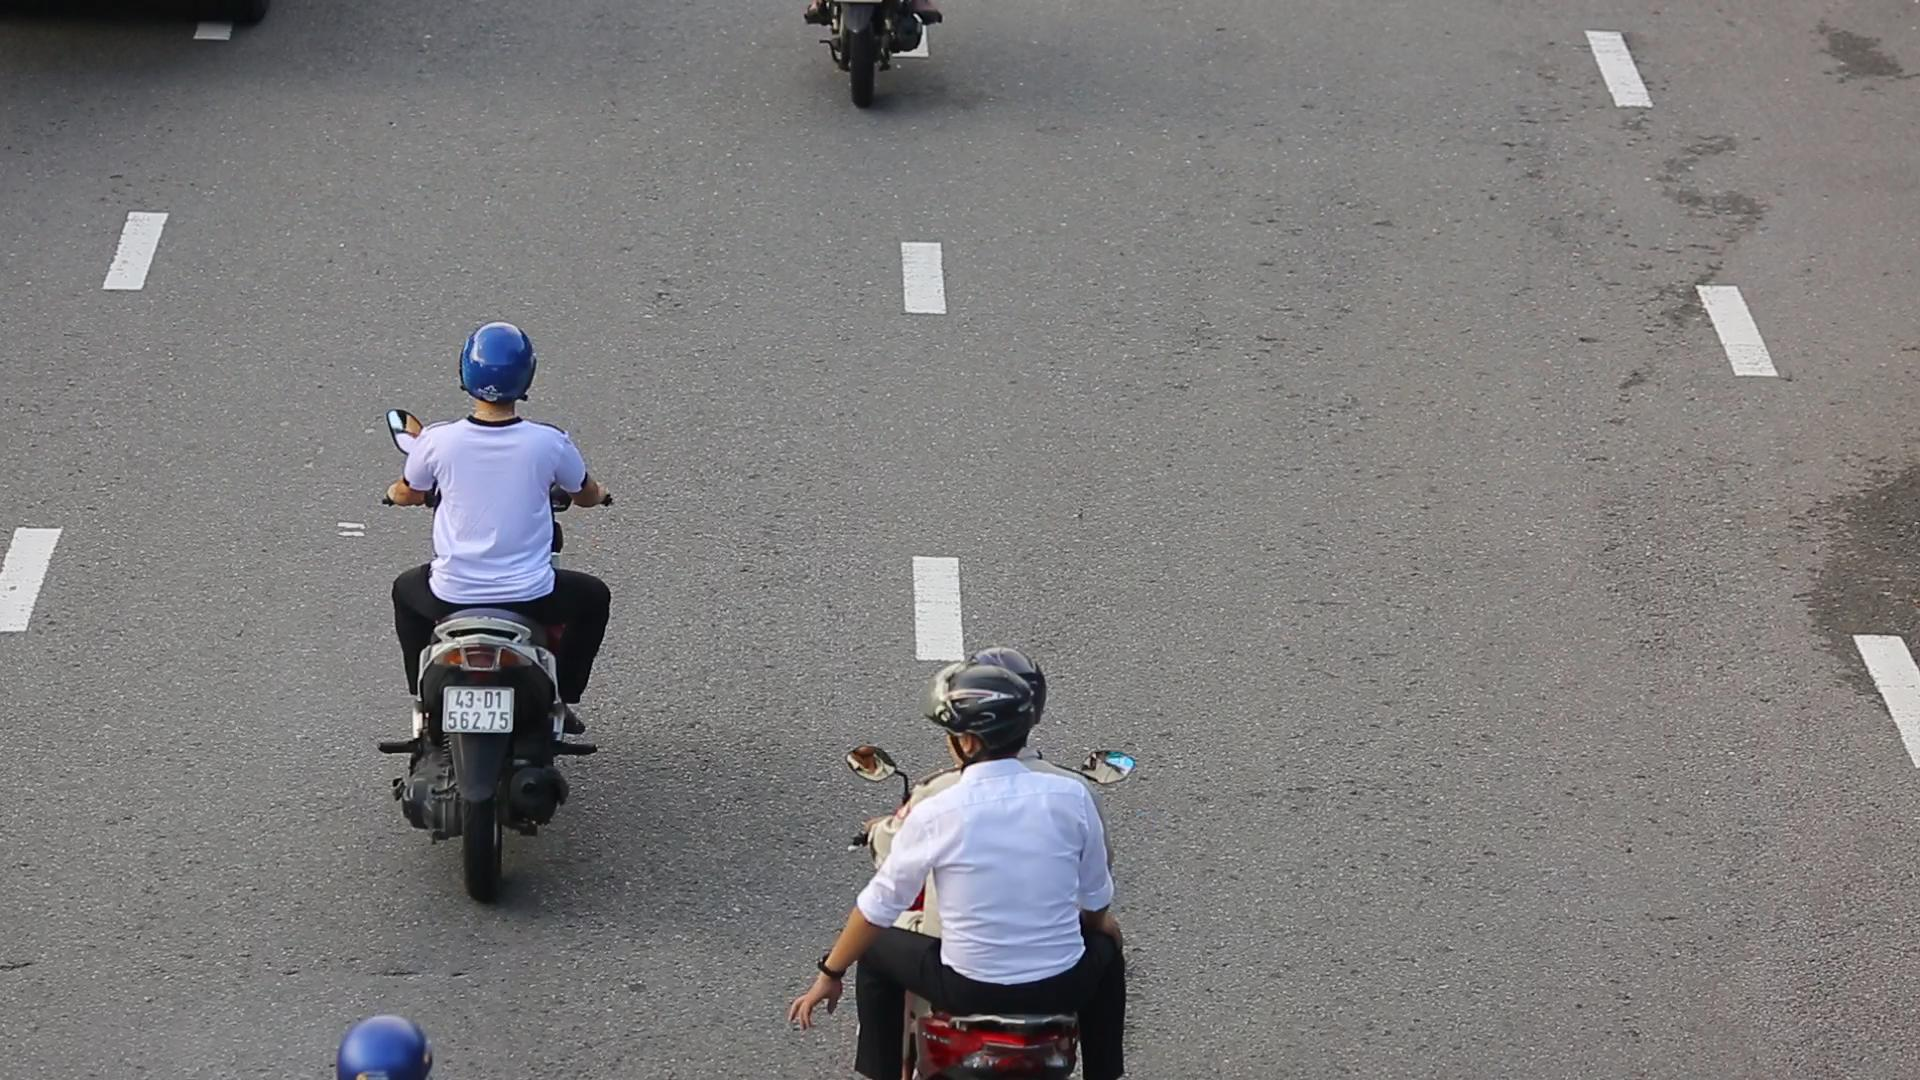motobike: (375, 316, 609, 907)
